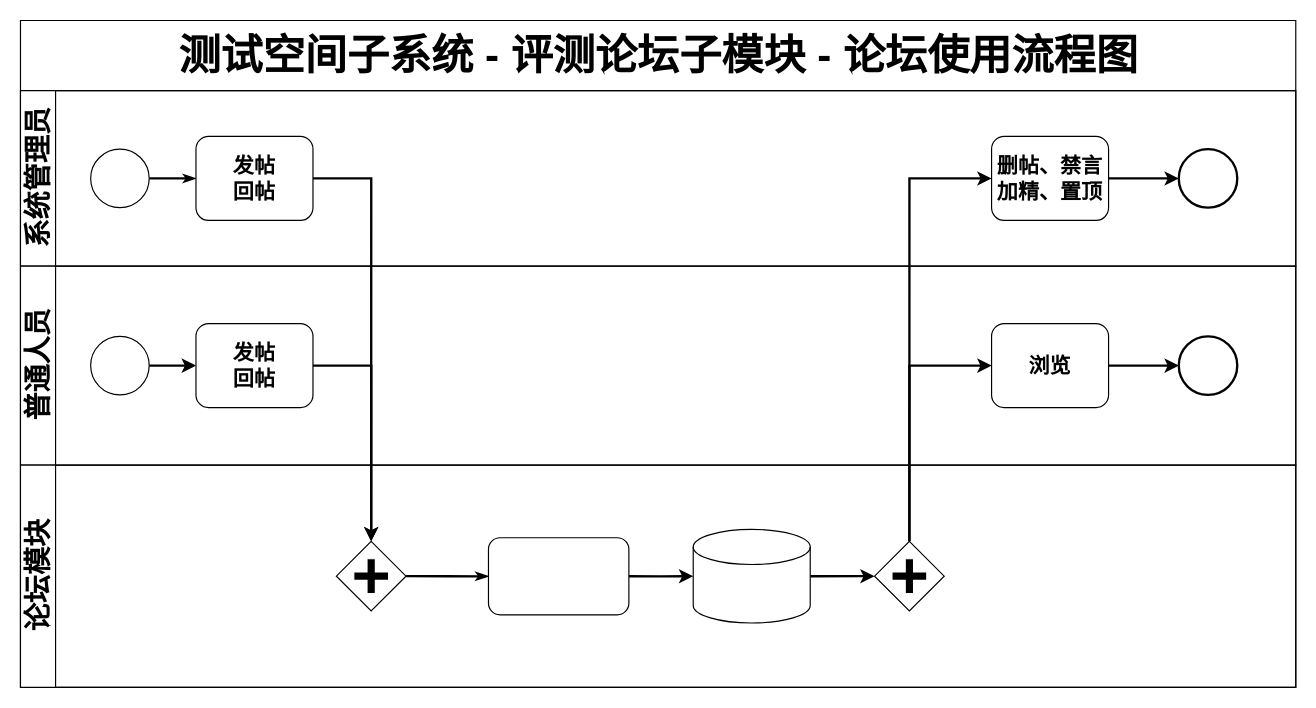
The diagram is 1316 pixels wide and 708 high, and some of its shapes have lost their labels. Here are the shapes that lost their labels. From the top down, the centre of each, then its label:
At point 558,576: "敏感性研判".
At point 751,575: "论坛信息库".
